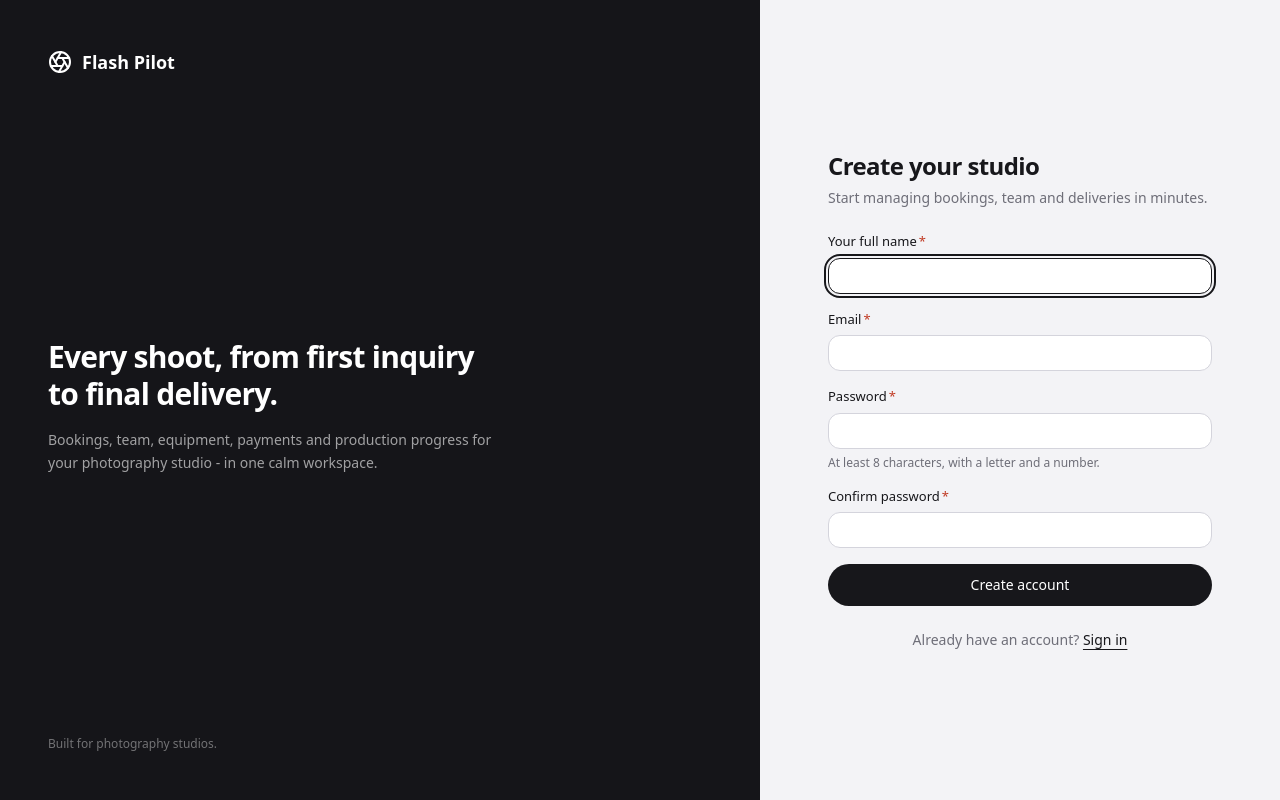
Test: sign up › enforces a strong-enough password and matching confirmation
The image size is (1280, 800).
Step 1. Type "Olivia" into the field labelled "Your full name*" → (1020, 276), box [828,258,1212,294]
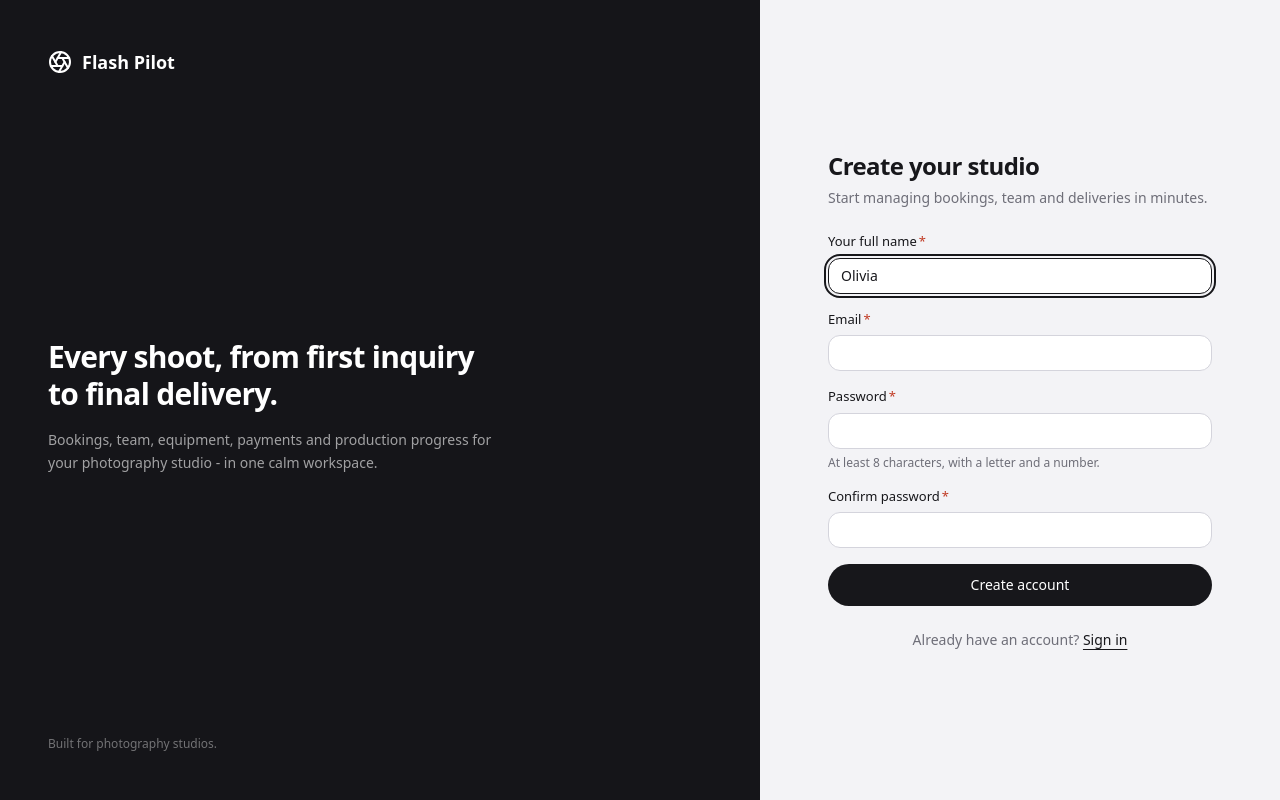
Step 2. Type "olivia@studio.com" into the field labelled "Email*" → (1020, 353), box [828,335,1212,371]
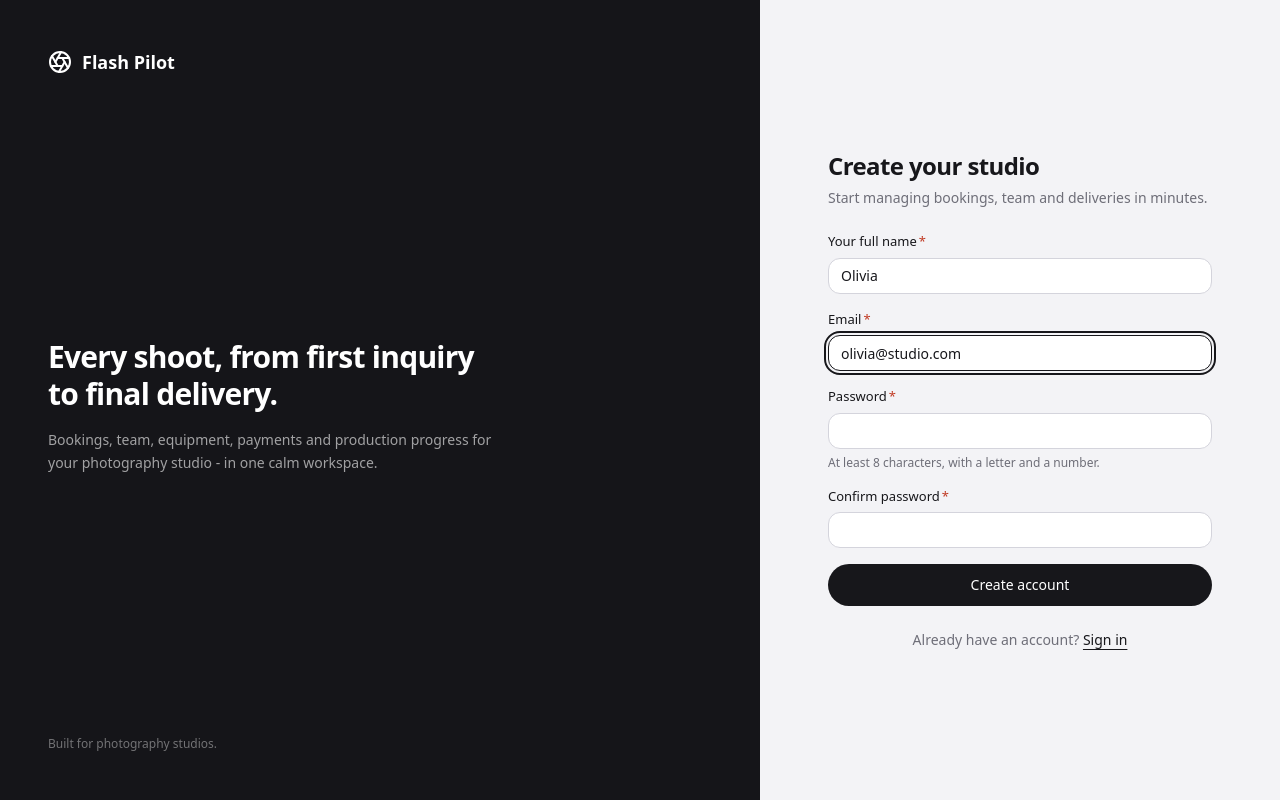
Step 3. Type "short" into the password field labelled "Password*" → (1020, 430), box [828,412,1212,448]
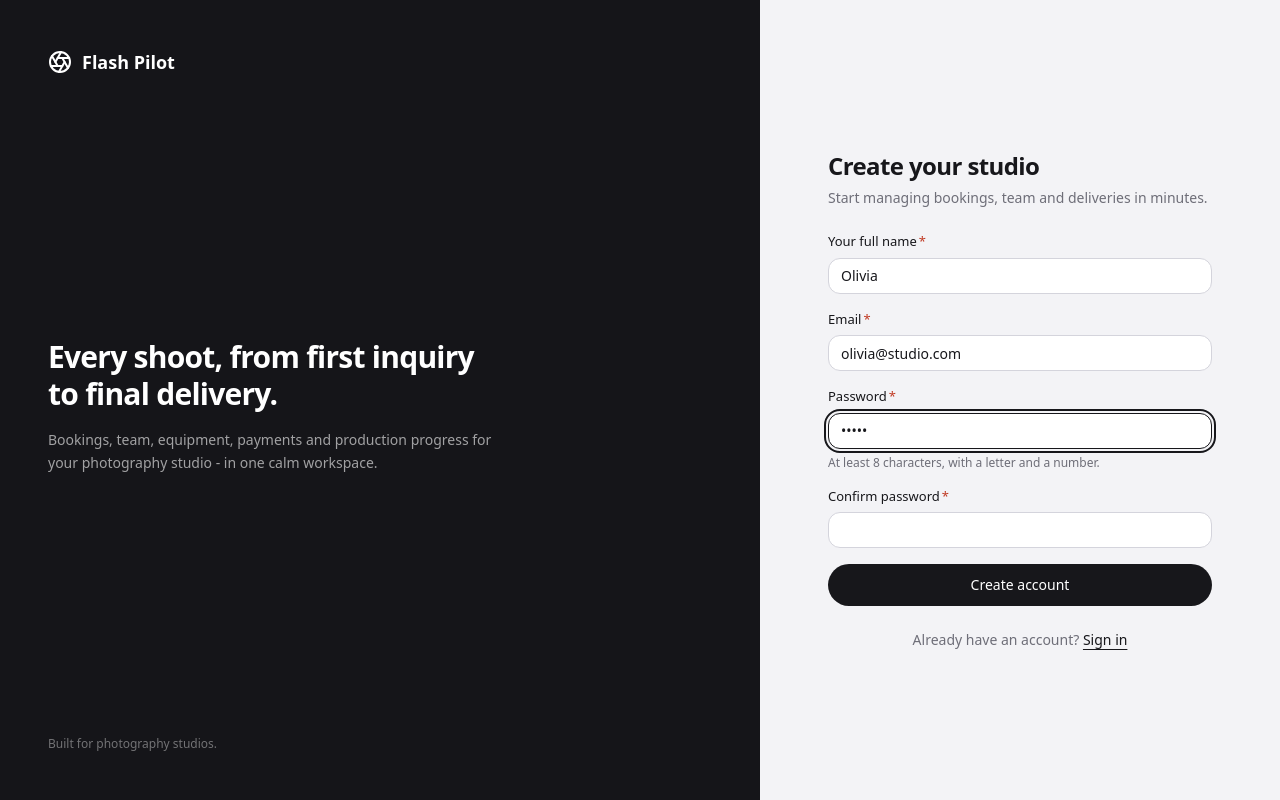
Step 4. Type "different" into the password field labelled "Confirm password*" → (1020, 530), box [828,512,1212,548]
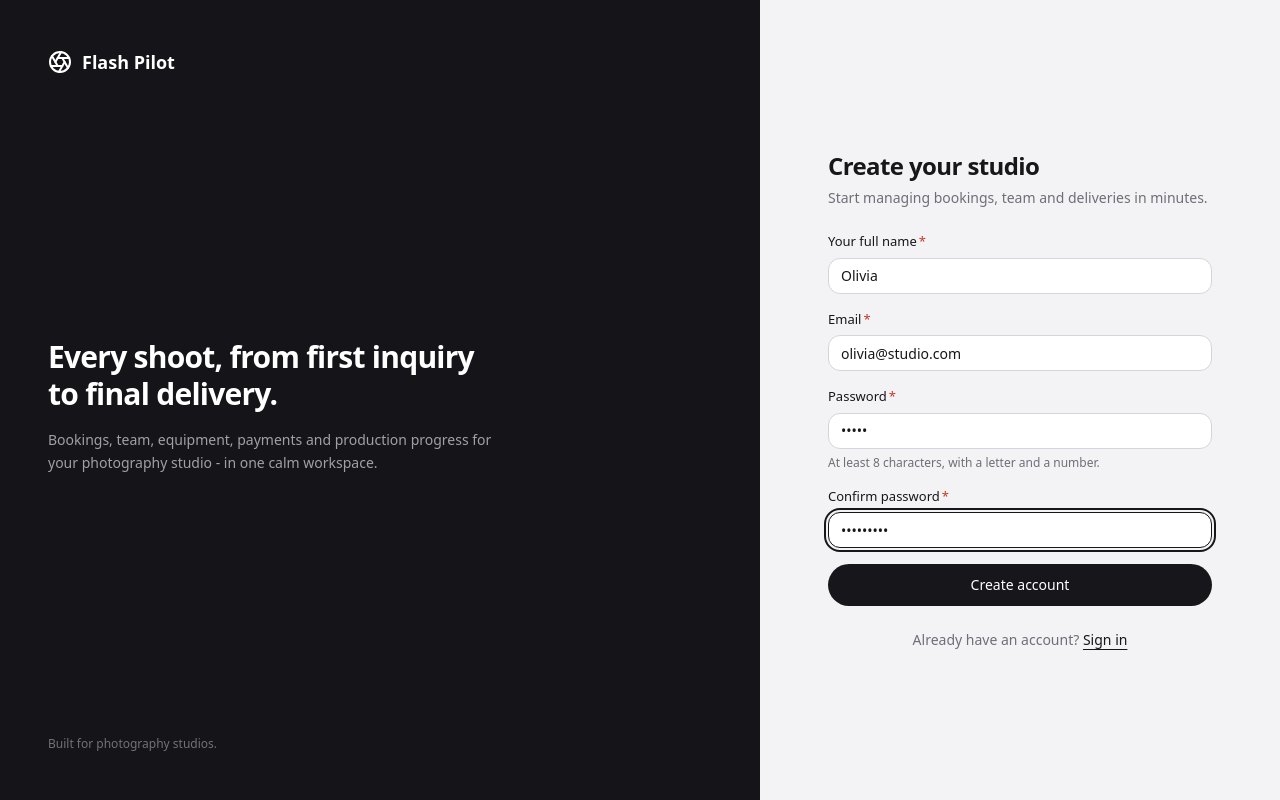
Step 5. Click the button "Create account" → (1020, 585), box [828,564,1212,606]
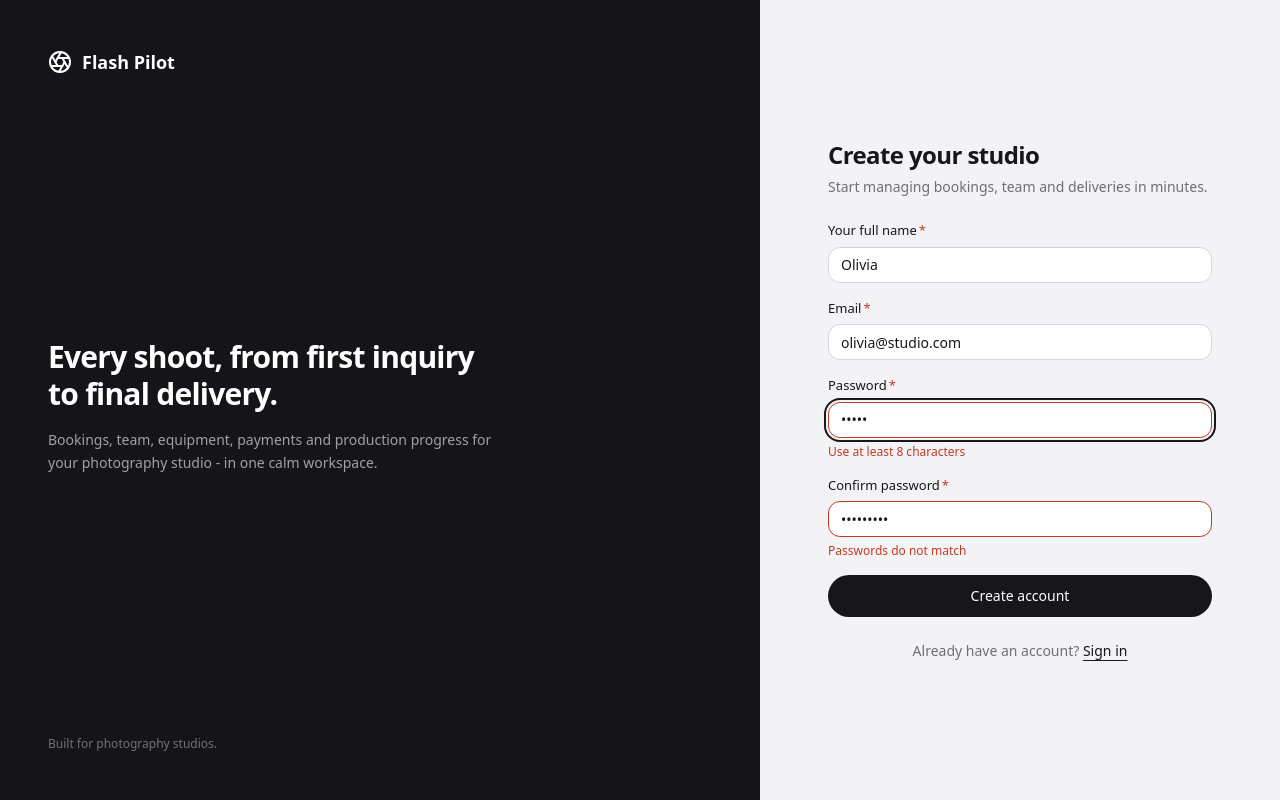
Now the text "Use at least 8 characters" is shown, box [828,442,965,460]
Now the text "Passwords do not match" is shown, box [828,542,966,559]
